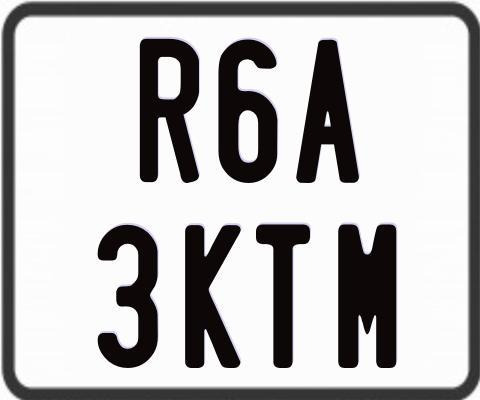3: (95, 222, 159, 368)
6: (215, 38, 280, 182)
A: (295, 39, 362, 183)
K: (183, 225, 240, 371)
M: (338, 224, 396, 369)
R: (139, 36, 200, 180)
T: (253, 221, 313, 371)
